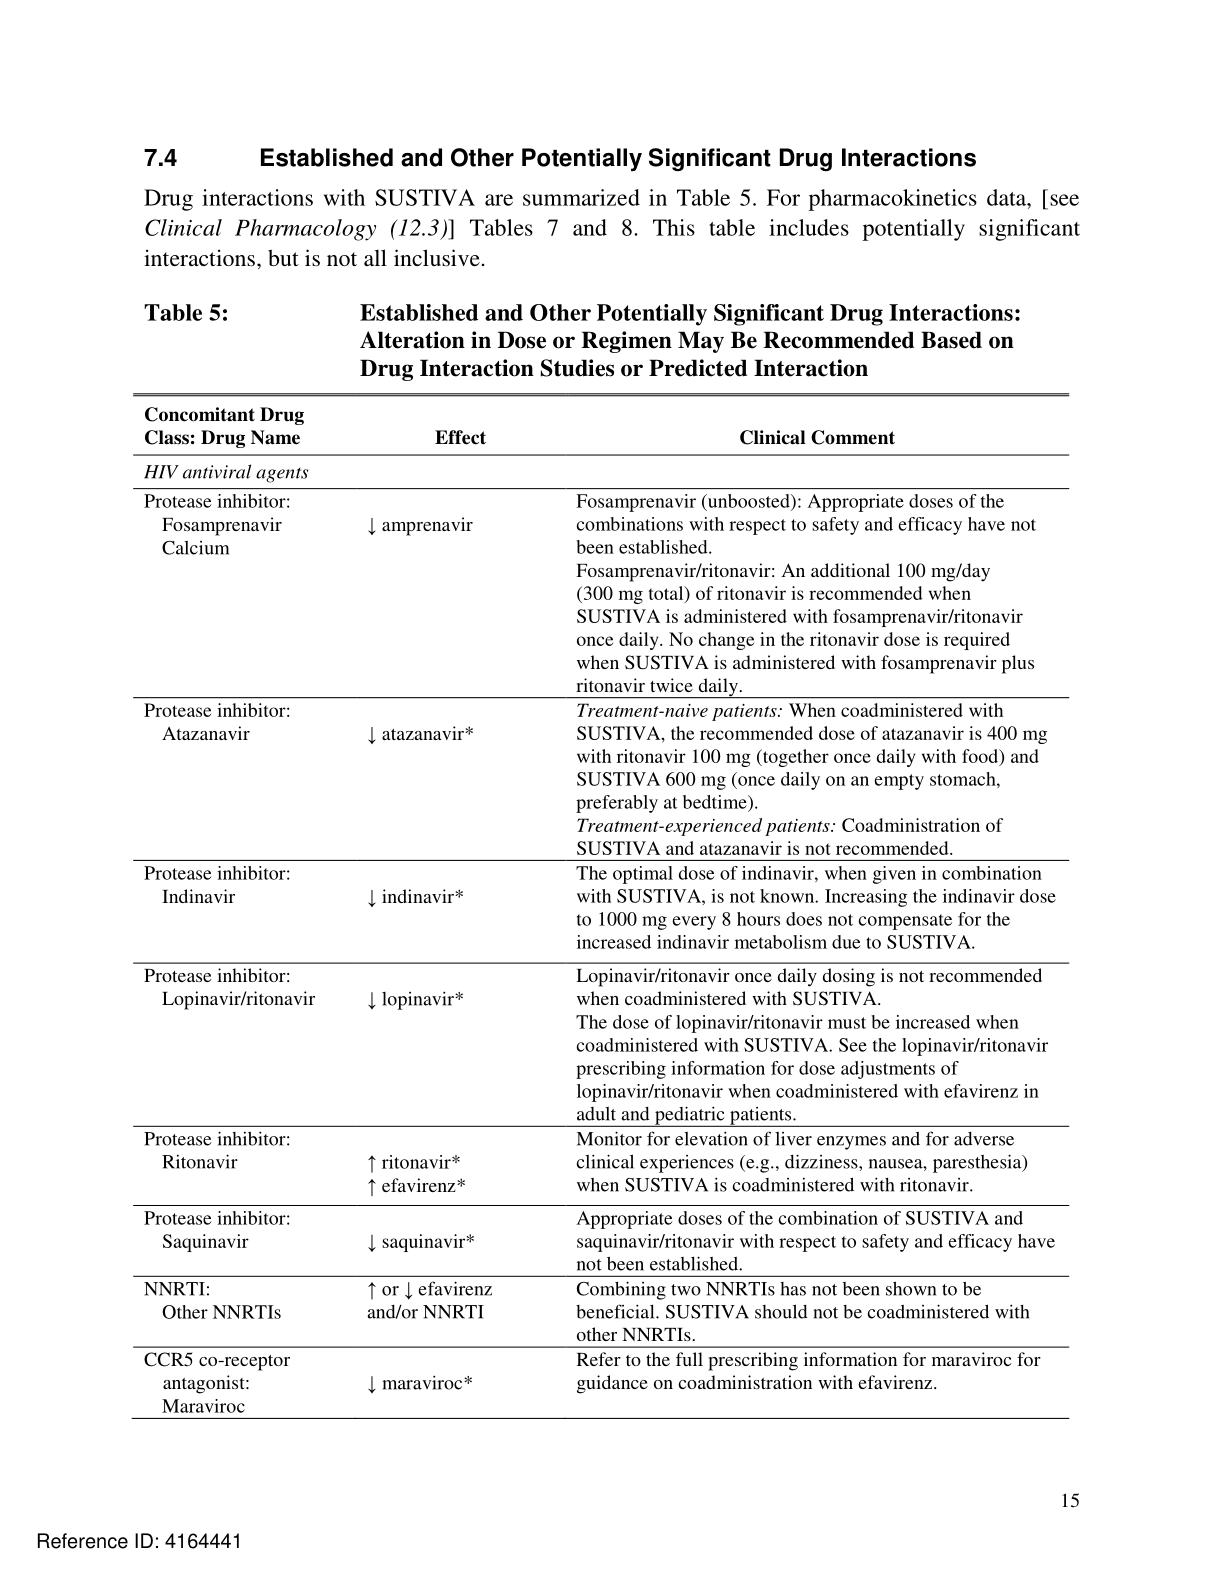partial_lined: (132, 391, 1071, 1418)
